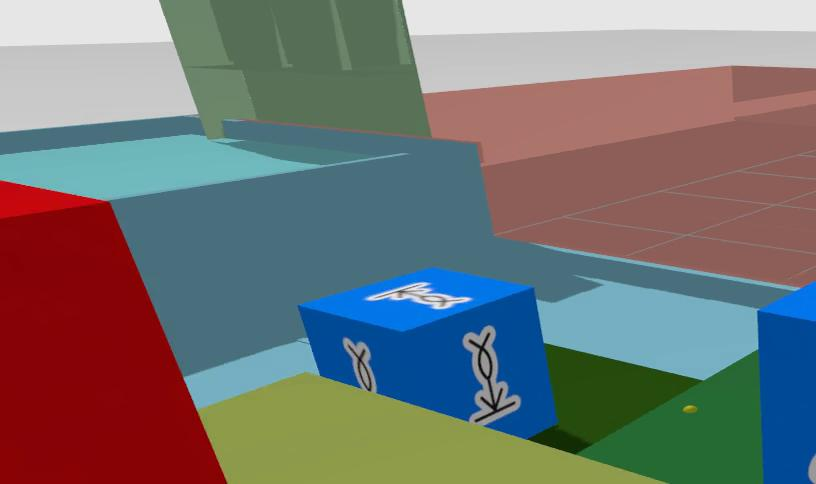KFS_REAL: (298, 268, 557, 436), (756, 280, 816, 484), (463, 325, 520, 424), (366, 282, 471, 309), (343, 339, 376, 392), (807, 450, 816, 484)
